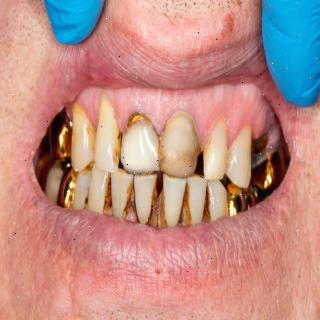LLCI_decay: (160, 177, 184, 226)
LLC_decay: (205, 180, 228, 220)
LLLI_decay: (185, 176, 208, 223)
LRCI_decay: (131, 174, 157, 228)
LRC_decay: (85, 172, 110, 213)
LRLI_decay: (109, 171, 134, 218)
ULCI_decay: (161, 111, 201, 176)
ULC_healthy: (226, 127, 251, 189)
ULLI_decay: (203, 120, 226, 181)
URCI_decay: (120, 114, 161, 174)
URC_decay: (70, 102, 95, 173)
URLI_decay: (93, 96, 121, 171)
